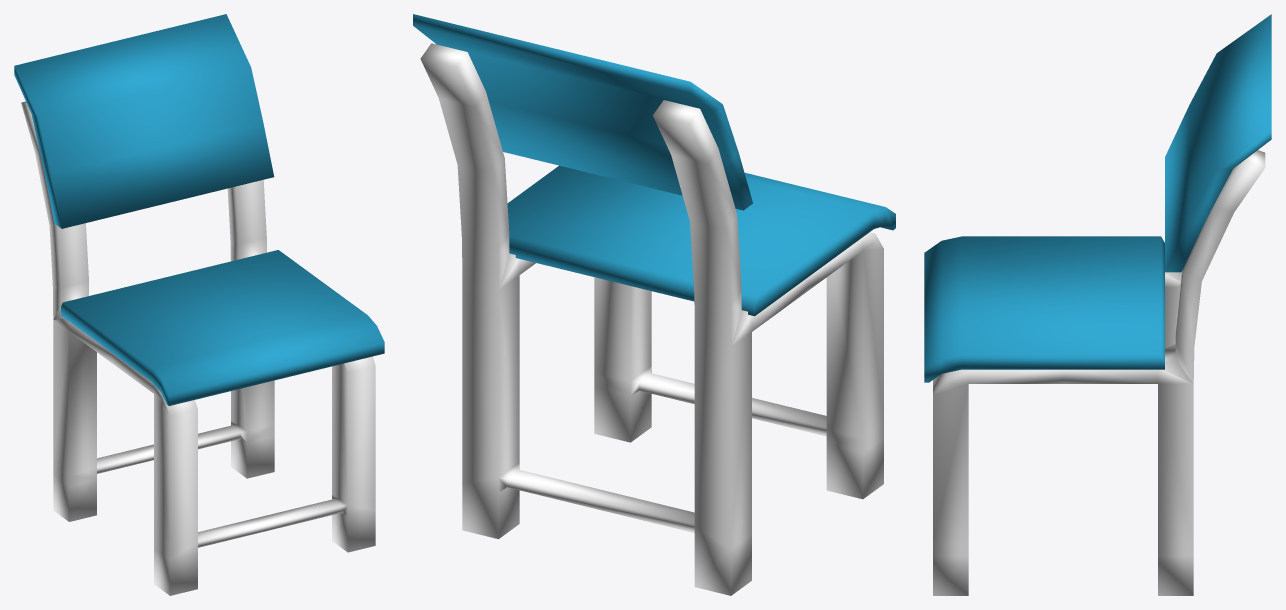
3 renders of one model, left to right at view 1: azimuth 30°, elevation 25°; view 2: azimuth 150°, elevation 25°; view 3: azimuth 270°, elevation 25°, orthographic. The views are drawn at different scales.
Parts seen in each view (by area): view 1: 椅子板, 椅子架; view 2: 椅子架, 椅子板; view 3: 椅子板, 椅子架.
Boxes of the visible parts, left/top/right/bottom form: 椅子板: left=14, top=14, right=384, bottom=405; 椅子架: left=21, top=101, right=375, bottom=595; 椅子架: left=420, top=43, right=883, bottom=595; 椅子板: left=413, top=14, right=895, bottom=316; 椅子板: left=924, top=14, right=1271, bottom=382; 椅子架: left=933, top=150, right=1265, bottom=595.
Bounding box in the file's own units: 154 × 287 × 193.
